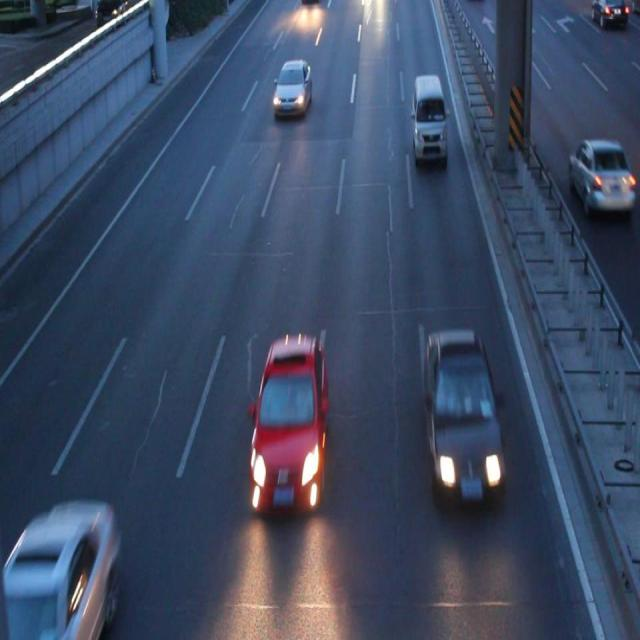car: (1, 505, 117, 640), (422, 334, 503, 503), (252, 338, 326, 505), (568, 136, 632, 210), (274, 61, 310, 110)
truck: (412, 75, 445, 158)
